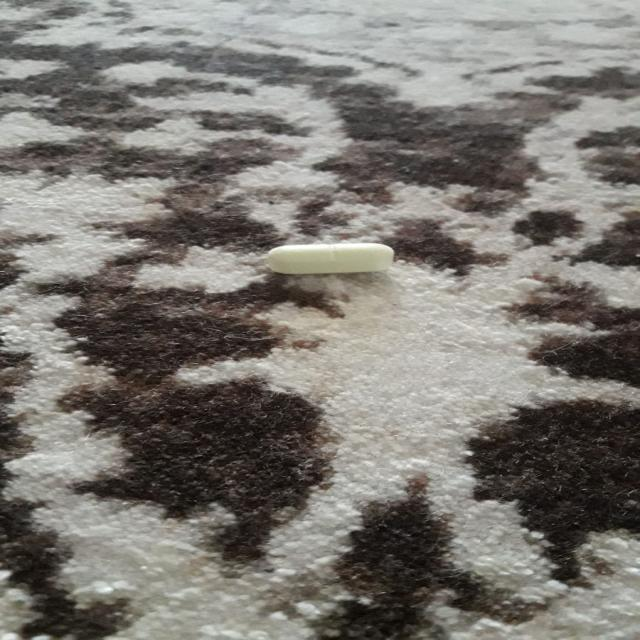pills: (259, 233, 412, 284)
